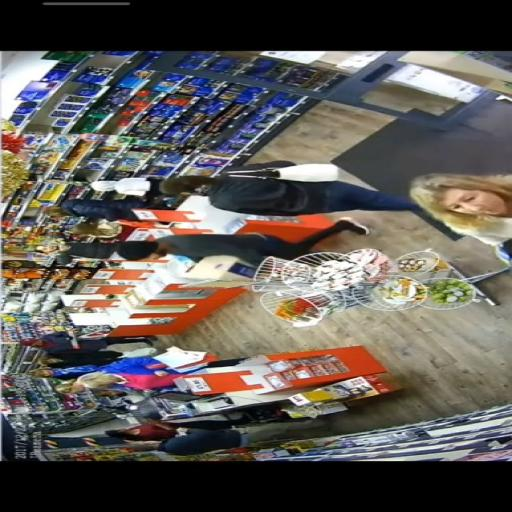workers: (22, 355, 258, 385), (14, 330, 154, 357), (28, 198, 152, 225), (89, 176, 162, 203)
